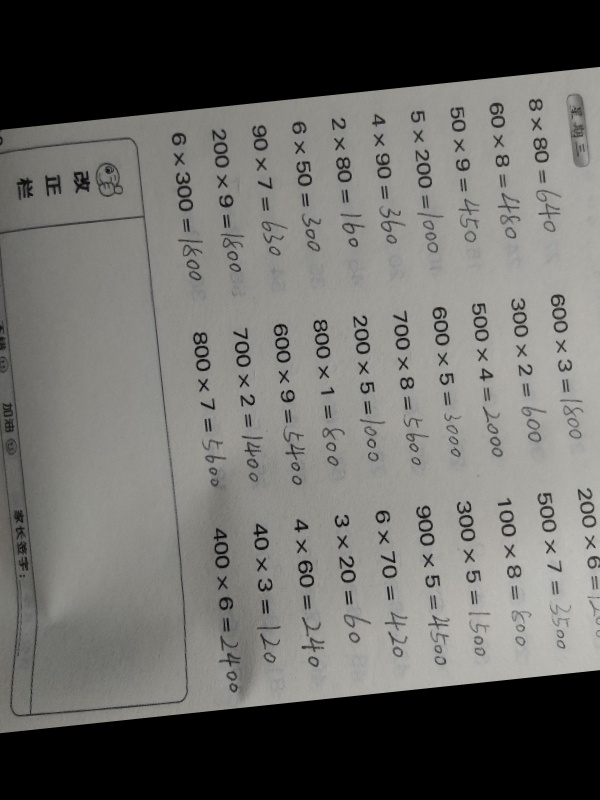equation: (206, 522, 244, 701), (189, 327, 225, 492), (272, 320, 306, 489), (374, 506, 410, 665), (418, 501, 452, 669), (405, 107, 443, 256), (167, 129, 203, 286), (390, 308, 425, 469), (510, 295, 547, 447), (249, 519, 285, 673), (350, 312, 386, 465), (458, 497, 492, 659), (231, 325, 265, 486), (540, 488, 572, 654), (332, 511, 369, 654), (289, 516, 323, 671), (311, 316, 345, 471), (210, 126, 244, 276), (550, 290, 583, 444), (252, 121, 288, 260), (369, 110, 405, 248), (526, 96, 561, 237), (500, 494, 531, 649), (432, 303, 462, 462), (449, 102, 482, 246), (487, 99, 520, 243), (472, 299, 501, 460), (331, 115, 364, 251), (292, 117, 322, 256), (578, 486, 600, 642)
